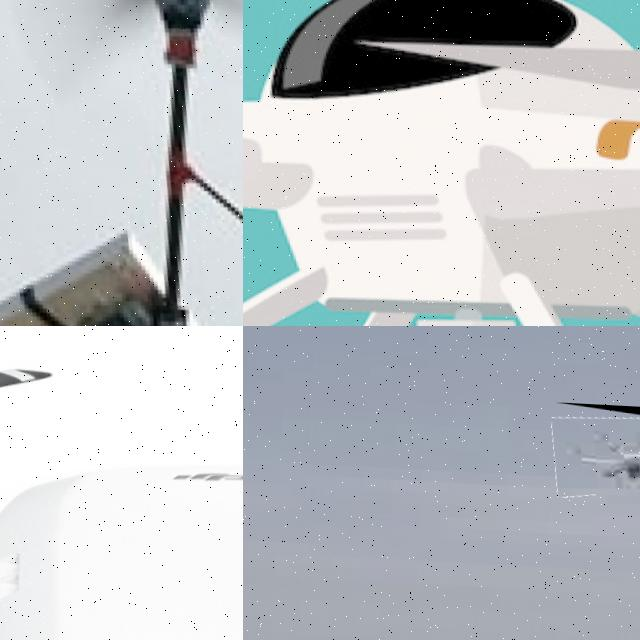drone: (243, 0, 640, 326), (0, 0, 243, 326), (0, 326, 243, 640), (550, 402, 640, 500)
